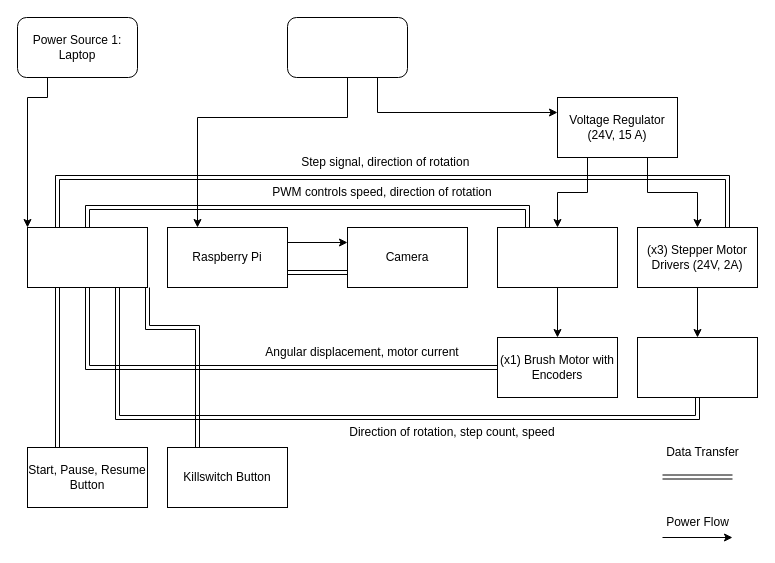
This 775x563 diagram has some shape labels left out. Here are the shapes that lost their labels. From the top down, the box of each, then its label:
(286, 16, 408, 78): Power Source 2: Wall Outlet
(26, 226, 148, 288): ATMega328PB
(496, 226, 618, 288): (x1) Brush Motor Drivers (24V, 3A)
(636, 336, 758, 398): (x3) Stepper Motors with Encoders
